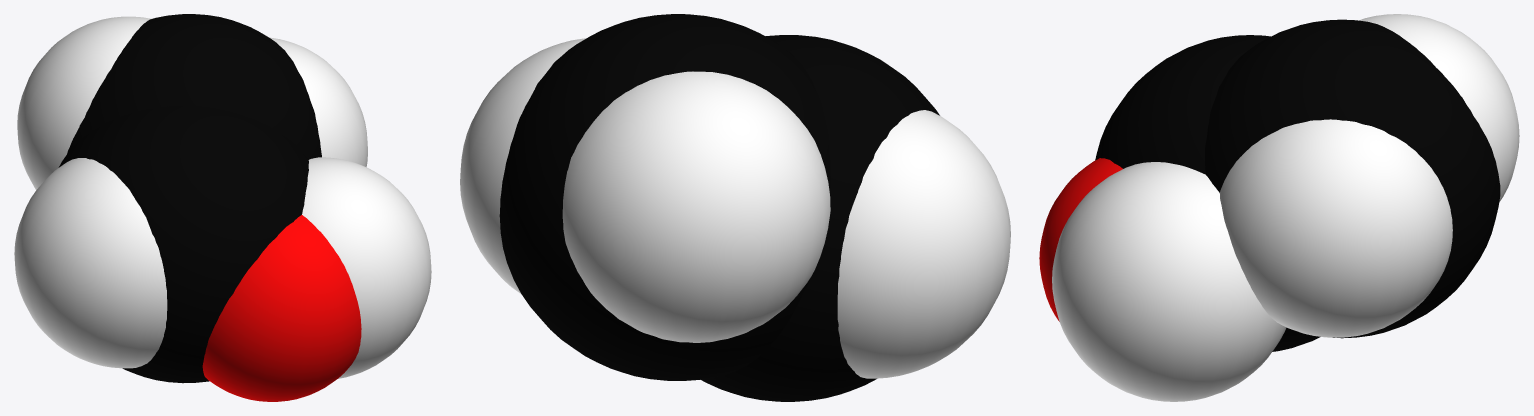
File: etenol.obj
The picture shows the model from 3 angles, left to right: view 1: azimuth 30°, elevation 25°; view 2: azimuth 150°, elevation 25°; view 3: azimuth 270°, elevation 25°; orthographic projection. The views are drawn at different scales.
Visible parts, largest first — view 1: Hydrogen_ball, Carbon_ball, Oxygen_ball; view 2: Hydrogen_ball, Carbon_ball; view 3: Hydrogen_ball, Carbon_ball, Oxygen_ball.
Part boxes in pixels (left/top/right/bottom): Hydrogen_ball: left=14, top=16, right=431, bottom=378; Carbon_ball: left=58, top=14, right=321, bottom=383; Oxygen_ball: left=202, top=215, right=361, bottom=401; Hydrogen_ball: left=460, top=38, right=1010, bottom=378; Carbon_ball: left=499, top=14, right=939, bottom=401; Hydrogen_ball: left=1052, top=14, right=1519, bottom=401; Carbon_ball: left=1095, top=19, right=1500, bottom=351; Oxygen_ball: left=1039, top=158, right=1122, bottom=321.
Bounding box in the file's own units: 2.64 × 2.07 × 2.74.
